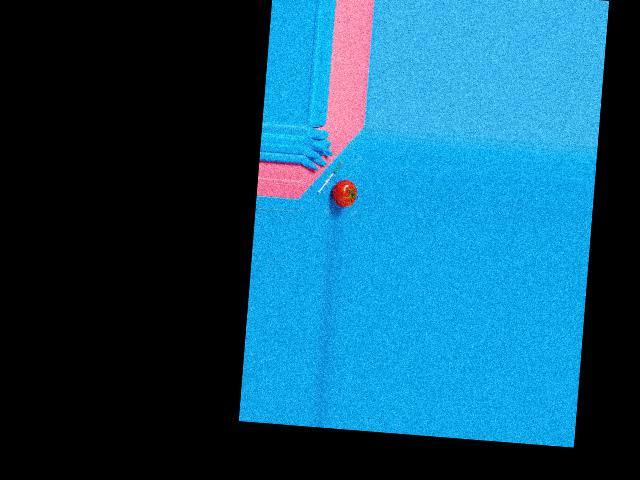tomato: (330, 178, 357, 207)
